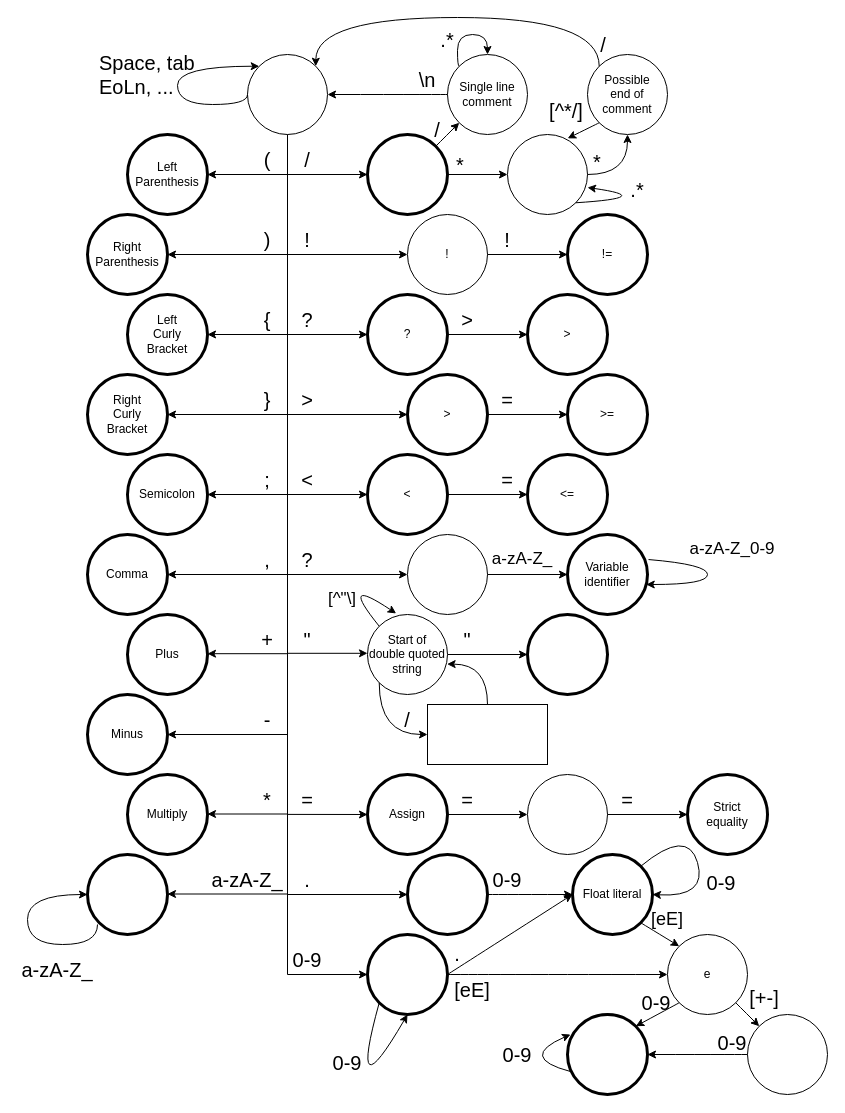
Some shapes in this 845 by 1113 pixel diagram are drawn without their labels. Each missing label, with the centre of its shape:
Block comment: the point at 547,174
Concat: the point at 447,894
Divide: the point at 407,174
End of double quoted string: the point at 567,654
Float literal with expoent: the point at 607,1054
Indentifier (function or keyword): the point at 127,894
Integer literal: the point at 407,974
signed e: the point at 787,1054
Start: the point at 287,94
Start of strict equality: the point at 567,814
start of variable identifier: the point at 447,574
String SQ Escape: the point at 487,734
